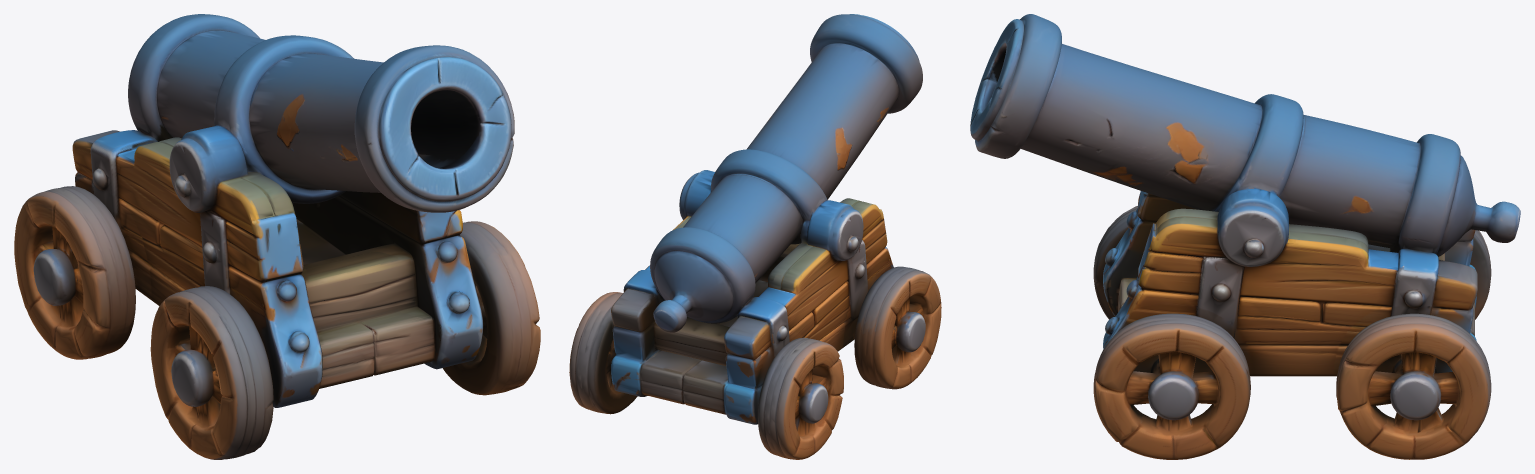
File: cannon.glb
3 views of the same model, side by side, from view 1: azimuth 30°, elevation 25°; view 2: azimuth 150°, elevation 25°; view 3: azimuth 270°, elevation 25° (orthographic). The views are drawn at different scales.
Visible parts, largest first — view 1: node_0; view 2: node_0; view 3: node_0.
Part boxes in pixels (<box>): node_0: <box>14,14,540,459</box>; node_0: <box>569,14,941,459</box>; node_0: <box>970,14,1520,459</box>.
Bounding box in the file's own units: 0.6044 × 0.7613 × 1.01.
Materials: 1 (1 with a texture image).
